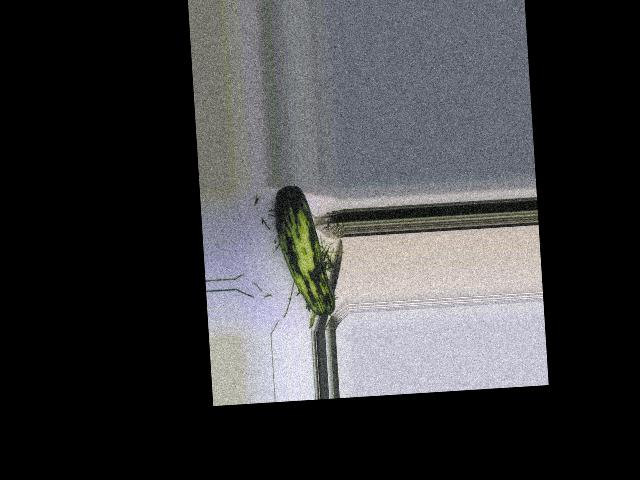cucumber: (273, 183, 336, 319)
